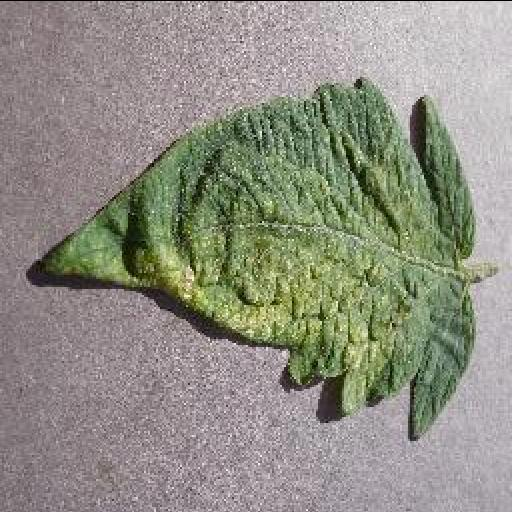disease_tomato: (36, 78, 476, 440)
